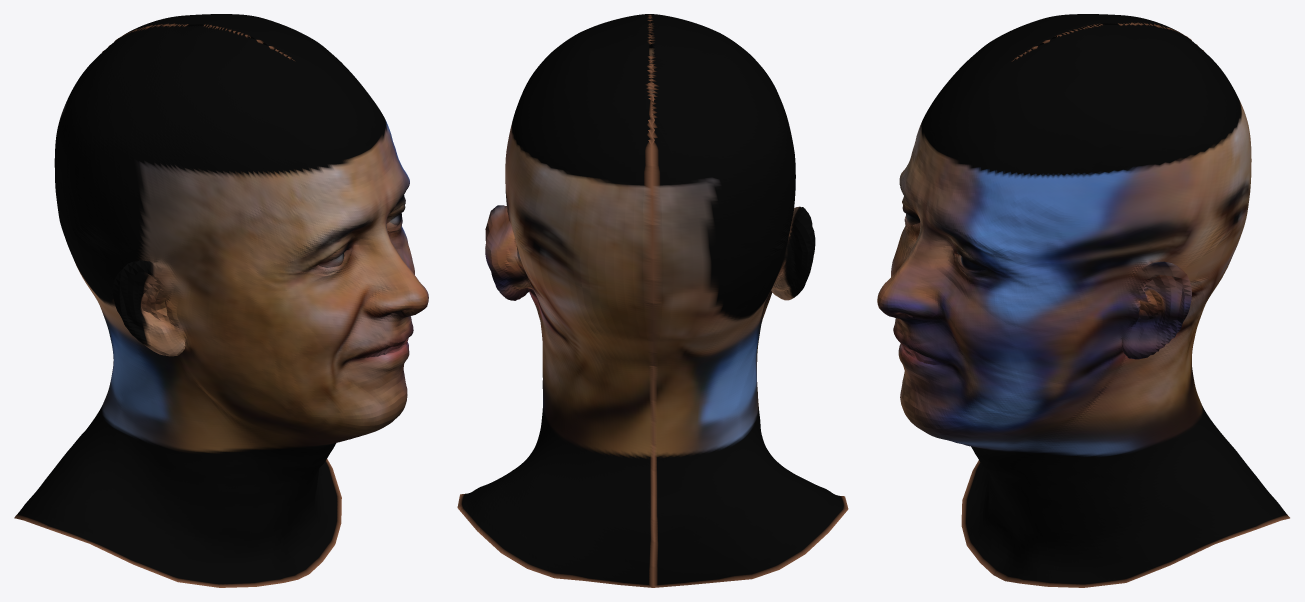
Rendered from mesh_coarse_detail.obj.
3 renders of one model, left to right at view 1: azimuth 30°, elevation 25°; view 2: azimuth 150°, elevation 25°; view 3: azimuth 270°, elevation 25°, orthographic. The views are drawn at different scales.
Bounding box in the file's own units: 0.2139 × 0.321 × 0.2283.
